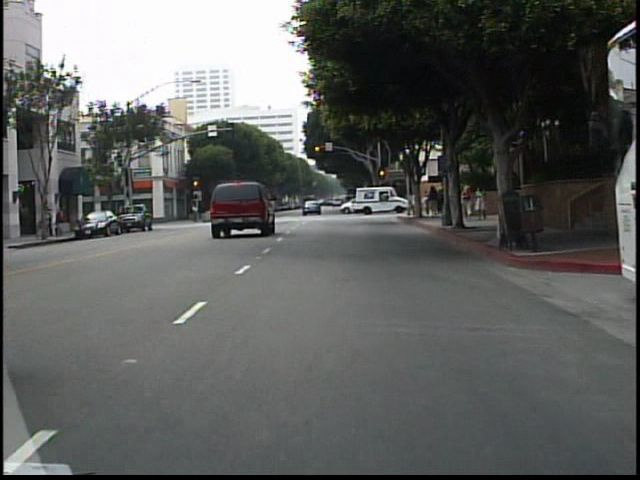person: (473, 181, 488, 223), (460, 183, 472, 222)
